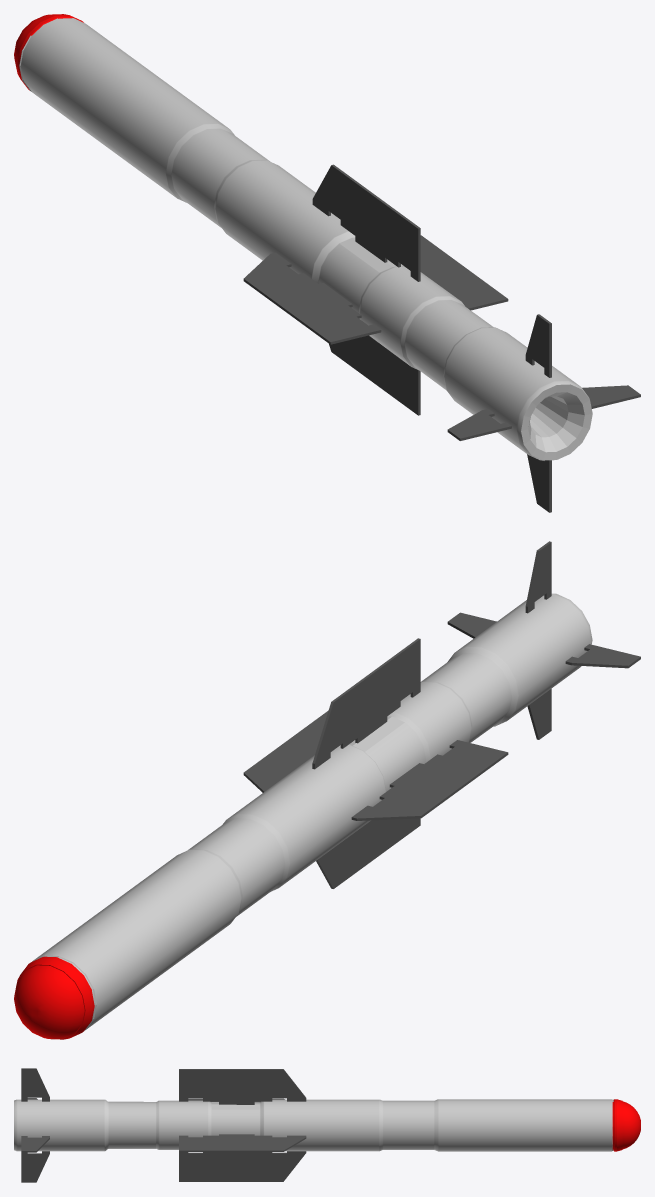
The model's file is missile.fbx.
The picture shows the model from 3 angles, top to bottom: view 1: azimuth 30°, elevation 25°; view 2: azimuth 150°, elevation 25°; view 3: azimuth 270°, elevation 25°; orthographic projection. The views are drawn at different scales.
Visible parts, largest first — view 1: missile1; view 2: missile1; view 3: missile1.
Boxes of the visible parts, x1,y1,x2,y2 form: missile1: (14, 14, 640, 512); missile1: (14, 541, 640, 1039); missile1: (14, 1068, 640, 1182).
Bounding box in the file's own units: 1.16 × 1.16 × 5.79.
